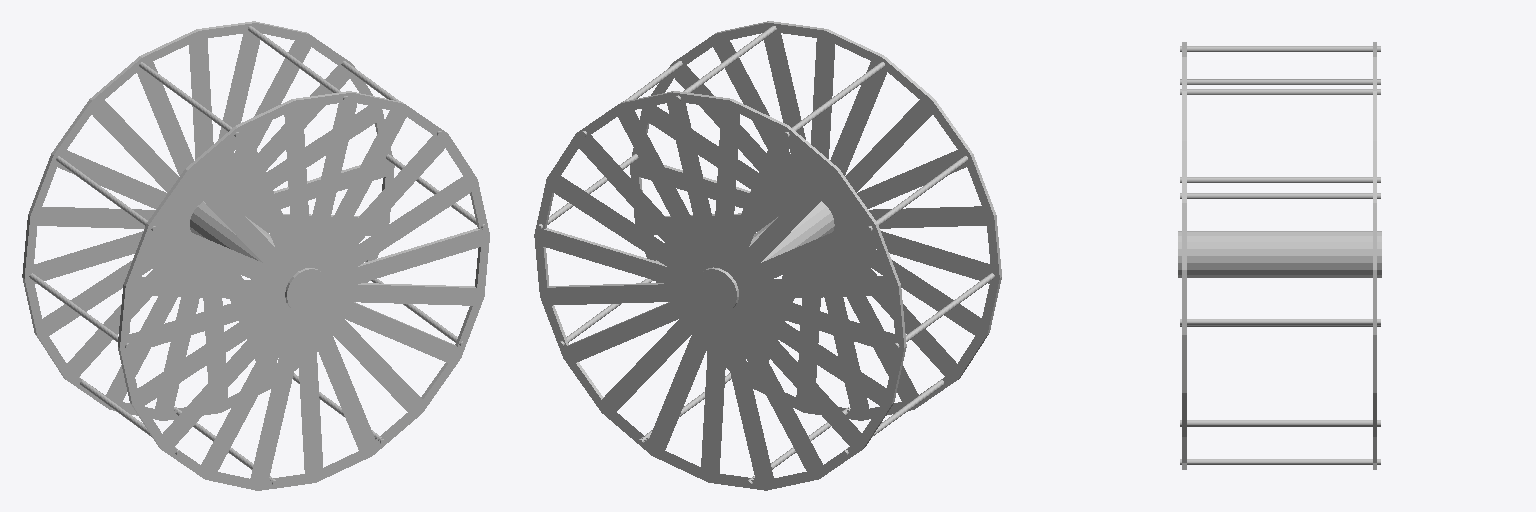
File: rodagigantearo.obj
The picture shows the model from 3 angles: view 1: azimuth 30°, elevation 25°; view 2: azimuth 150°, elevation 25°; view 3: azimuth 270°, elevation 25°; orthographic projection.
Visible parts, largest first — view 1: rodagigantearo:pCylinder21; view 2: rodagigantearo:pCylinder21; view 3: rodagigantearo:pCylinder21.
Part boxes in pixels (left/top/right/bottom): rodagigantearo:pCylinder21: left=22, top=21, right=489, bottom=490; rodagigantearo:pCylinder21: left=534, top=21, right=1001, bottom=490; rodagigantearo:pCylinder21: left=1178, top=42, right=1381, bottom=469.
Bounding box in the file's own units: 1.49 × 1.49 × 0.7077.